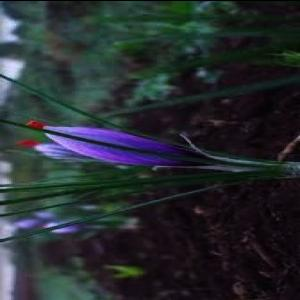Saffron: (31, 120, 216, 164)
